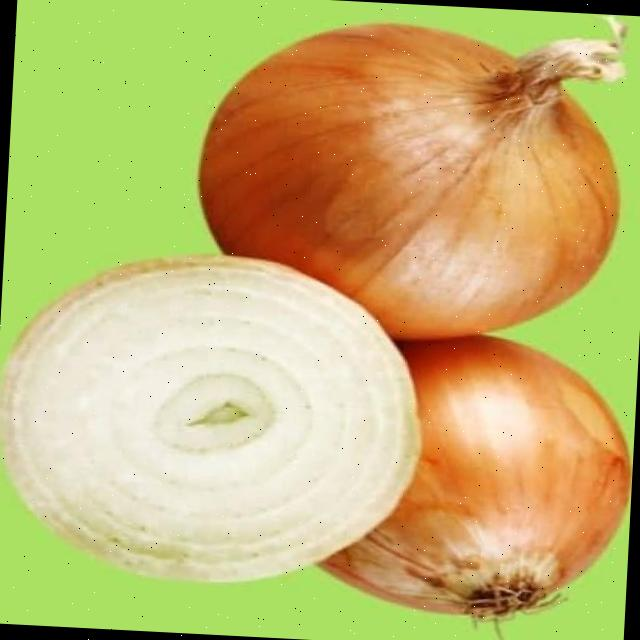Onion: (199, 21, 623, 340), (322, 337, 630, 620)
